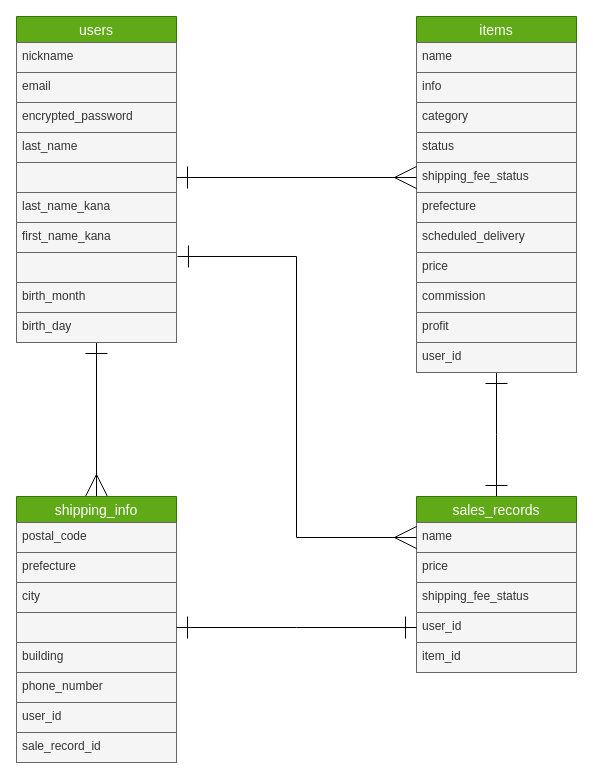
This 593x779 diagram has some shape labels left out. The centre of each missing label's shape, as x and y in pixels:
"address" goes at point (96, 627).
"birth_year" goes at point (96, 267).
"first_name" goes at point (96, 177).
